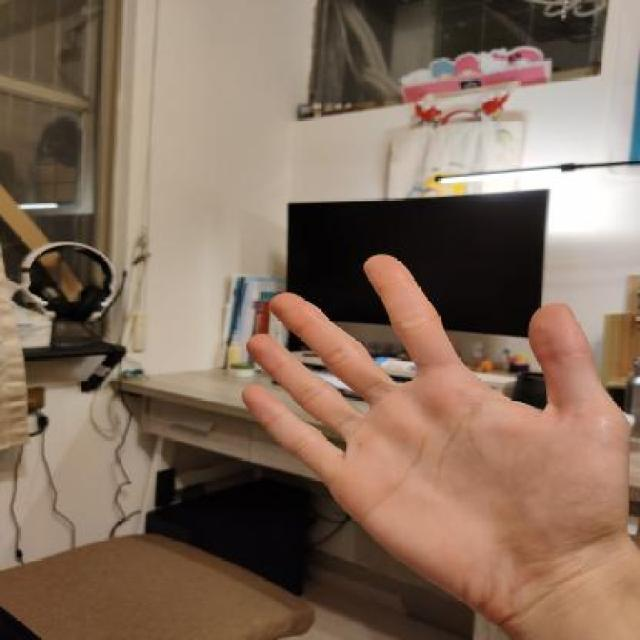bare_hand: (224, 244, 638, 638)
